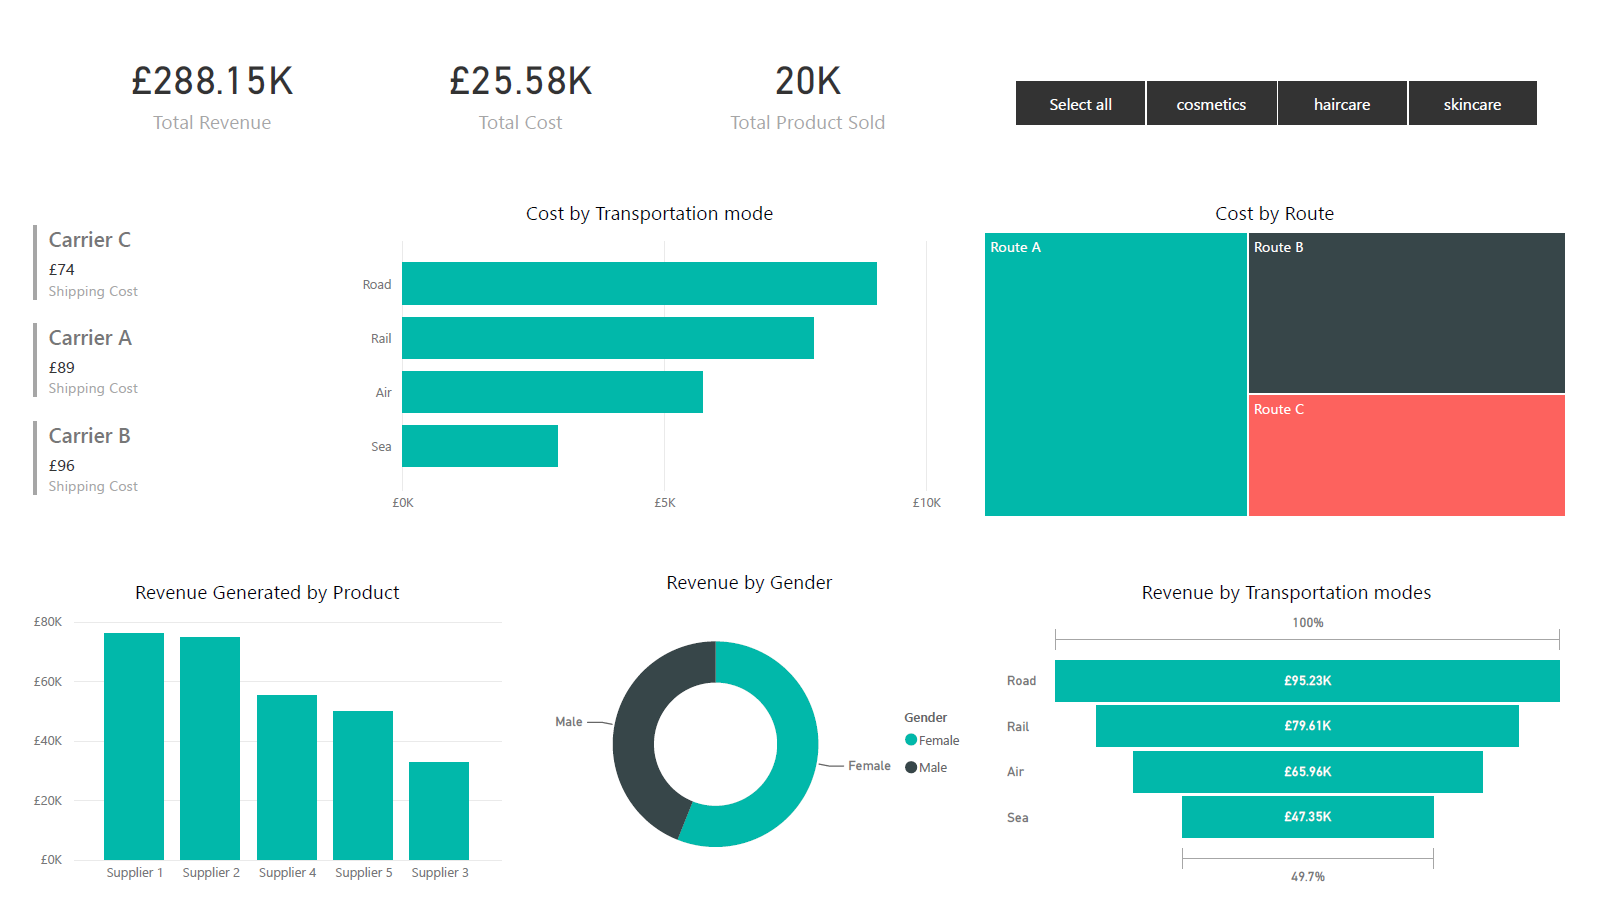

This screenshot's page, from the dashboard's own definition file:
{"tool":"powerbi","page":{"name":"Page 1","canvas":[1280,720],"ordinal":0},"visuals":[{"type":"columnChart","title":"Revenue Generated by Product","fields":{"Category":["supply_chain_data.Supplier name"],"Y":["Sum(supply_chain_data.Revenue generated)"]},"box":[0,459,398,260.6],"z":0},{"type":"funnel","title":"Revenue by Transportation modes","fields":{"Category":["supply_chain_data.Transportation modes"],"Y":["Sum(supply_chain_data.Revenue generated)"]},"box":[806.8,459,473.2,260.6],"z":1000},{"type":"card","fields":{"Values":["Sum(supply_chain_data.Revenue generated)"]},"box":[0,0,307.5,109],"z":2000},{"type":"card","fields":{"Values":["Sum(supply_chain_data.Costs)"]},"box":[286.7,0,244.2,109],"z":3000},{"type":"card","fields":{"Values":["Sum(supply_chain_data.Number of products sold)"]},"box":[516.8,0,260.6,109],"z":4000},{"type":"multiRowCard","fields":{"Values":["supply_chain_data.Shipping carriers","Sum(supply_chain_data.Shipping costs)"]},"box":[0,162.5,218.1,269.3],"z":5000},{"type":"donutChart","title":"Revenue by Gender","fields":{"Category":["supply_chain_data.Customer demographics"],"Y":["Sum(supply_chain_data.Revenue generated)"]},"box":[408.9,451.4,379.4,268.2],"z":6000},{"type":"slicer","fields":{"Values":["supply_chain_data.Product type"]},"box":[793.7,41.4,480.8,49.1],"z":7000},{"type":"clusteredBarChart","title":"Cost by Transportation mode","fields":{"Category":["supply_chain_data.Transportation modes"],"Y":["Sum(supply_chain_data.Costs)"]},"box":[270.4,145,491.7,268.2],"z":8000},{"type":"treemap","title":"Cost by Route","fields":{"Group":["supply_chain_data.Routes"],"Values":["Sum(supply_chain_data.Costs)"]},"box":[788.3,145,491.7,268.2],"z":9000}]}

Visuals, with their boxes in screenshot pixels (x1, y1, x2, y2), scaled from the page's 1280x720 canvas onto the 1598x918 screenshot:
"Revenue Generated by Product" columnChart: left=0, top=585, right=497, bottom=917
"Revenue by Transportation modes" funnel: left=1007, top=585, right=1597, bottom=917
card - Sum(supply_chain_data.Revenue generated): left=0, top=0, right=384, bottom=139
card - Sum(supply_chain_data.Costs): left=358, top=0, right=663, bottom=139
card - Sum(supply_chain_data.Number of products sold): left=645, top=0, right=971, bottom=139
multiRowCard - supply_chain_data.Shipping carriers x Sum(supply_chain_data.Shipping costs): left=0, top=207, right=272, bottom=551
"Revenue by Gender" donutChart: left=510, top=576, right=984, bottom=917
slicer - supply_chain_data.Product type: left=991, top=53, right=1591, bottom=115
"Cost by Transportation mode" clusteredBarChart: left=338, top=185, right=951, bottom=527
"Cost by Route" treemap: left=984, top=185, right=1597, bottom=527
